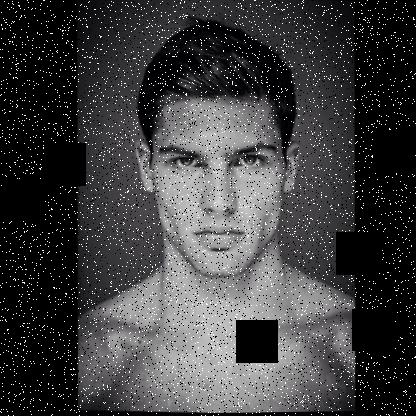Male: (129, 93, 303, 279)
